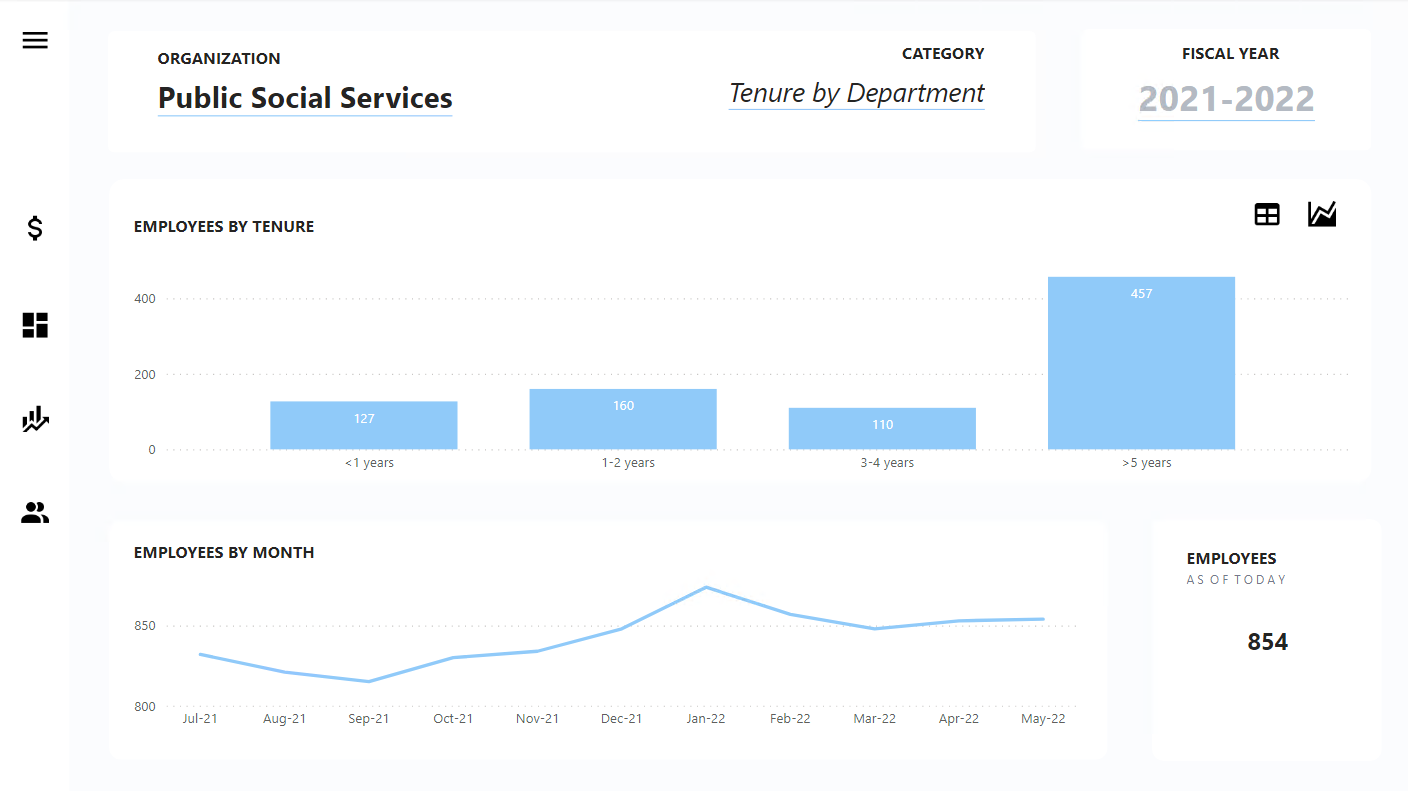

The dashboard page shown, as its layout file describes it:
{"tool":"powerbi","page":{"name":"Page 1","canvas":[1280,720],"ordinal":0},"visuals":[{"type":"shape","box":[0,0,64,719.9],"z":0},{"type":"shape","box":[98.9,29.7,840,110],"z":1000},{"type":"shape","box":[99.3,164.1,1143.2,275],"z":2000},{"type":"shape","box":[99.3,472.3,904.2,217.4],"z":3000},{"type":"textbox","box":[979.8,41,262.6,46.7],"z":4000},{"type":"lineChart","title":"EMPLOYEES BY MONTH","fields":{"Category":["calendar.Month Year"],"Y":["dataset.EmployeesValue"]},"box":[116.6,491,863.9,180],"z":6000},{"type":"shape","box":[980.7,28,261.6,110.2],"z":7000},{"type":"textbox","box":[981.6,62.1,260.7,81.4],"z":8000},{"type":"textbox","box":[986.3,34.6,256.3,47.5],"z":9000},{"type":"shape","box":[1043.4,471.6,207.7,218.9],"z":10000},{"type":"card","fields":{"Values":["dataset.EmployeesValue"]},"box":[1070,507.9,156.7,151.9],"z":11000},{"type":"textbox","box":[1070,491.5,181.9,53.2],"z":12000},{"type":"image","box":[12.2,18.4,40.2,40.2],"z":13000},{"type":"image","box":[12.2,446.2,40.2,40.2],"z":14000},{"type":"image","box":[12.2,360.4,40.2,40.2],"z":15000},{"type":"image","box":[12.2,276.5,40.2,40.2],"z":16000},{"type":"image","box":[12.2,188.1,40.2,40.2],"z":17000},{"type":"textbox","box":[616.2,63.4,280.8,82.1],"z":18000},{"type":"textbox","box":[640.7,34.6,256.3,47.5],"z":19000},{"type":"textbox","box":[138.2,64.8,410.3,82.1],"z":20000},{"type":"textbox","box":[138.2,38.9,256.3,47.5],"z":21000},{"type":"clusteredColumnChart","title":"EMPLOYEES BY TENURE","fields":{"Category":["SortTenureCombinedOrder.TenureText"],"Y":["dataset.Employees Flexible Axis"]},"box":[116.8,195.9,1109.7,243.3],"z":21250},{"type":"image","box":[1127.9,175.6,40,39.8],"z":22000},{"type":"image","box":[1177.7,175.6,40,40],"z":23000}]}

Visuals, with their boxes on the page's 1280x720 design canvas (x1, y1, x2, y2). These are canvas units, not pixel positions in the 1408x791 screenshot, which may show the page scaled, cropped or inside an application window:
shape: l=0, t=0, r=64, b=720
shape: l=99, t=30, r=939, b=140
shape: l=99, t=164, r=1242, b=439
shape: l=99, t=472, r=1004, b=690
textbox: l=980, t=41, r=1242, b=88
"EMPLOYEES BY MONTH" lineChart: l=117, t=491, r=980, b=671
shape: l=981, t=28, r=1242, b=138
textbox: l=982, t=62, r=1242, b=144
textbox: l=986, t=35, r=1243, b=82
shape: l=1043, t=472, r=1251, b=690
card - dataset.EmployeesValue: l=1070, t=508, r=1227, b=660
textbox: l=1070, t=492, r=1252, b=545
image: l=12, t=18, r=52, b=59
image: l=12, t=446, r=52, b=486
image: l=12, t=360, r=52, b=401
image: l=12, t=276, r=52, b=317
image: l=12, t=188, r=52, b=228
textbox: l=616, t=63, r=897, b=146
textbox: l=641, t=35, r=897, b=82
textbox: l=138, t=65, r=548, b=147
textbox: l=138, t=39, r=394, b=86
"EMPLOYEES BY TENURE" clusteredColumnChart: l=117, t=196, r=1226, b=439
image: l=1128, t=176, r=1168, b=215
image: l=1178, t=176, r=1218, b=216
